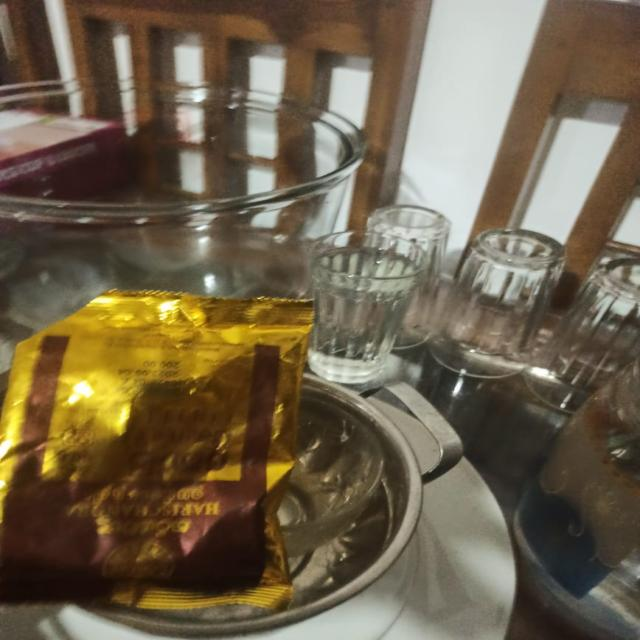Harischandra Coffee: (0, 275, 316, 627)
